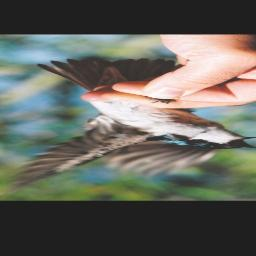Swallow: (0, 57, 256, 199)
